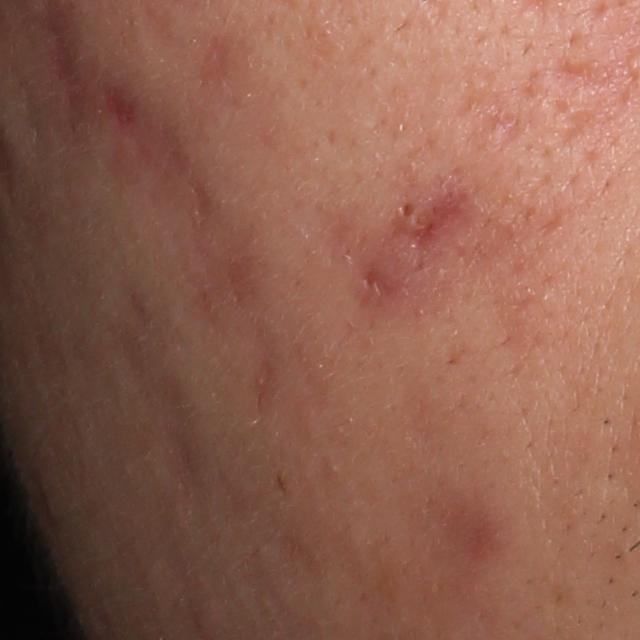atrophic_scar: (98, 93, 235, 278), (543, 91, 593, 144), (360, 262, 393, 297)
comedo: (394, 198, 422, 224)
